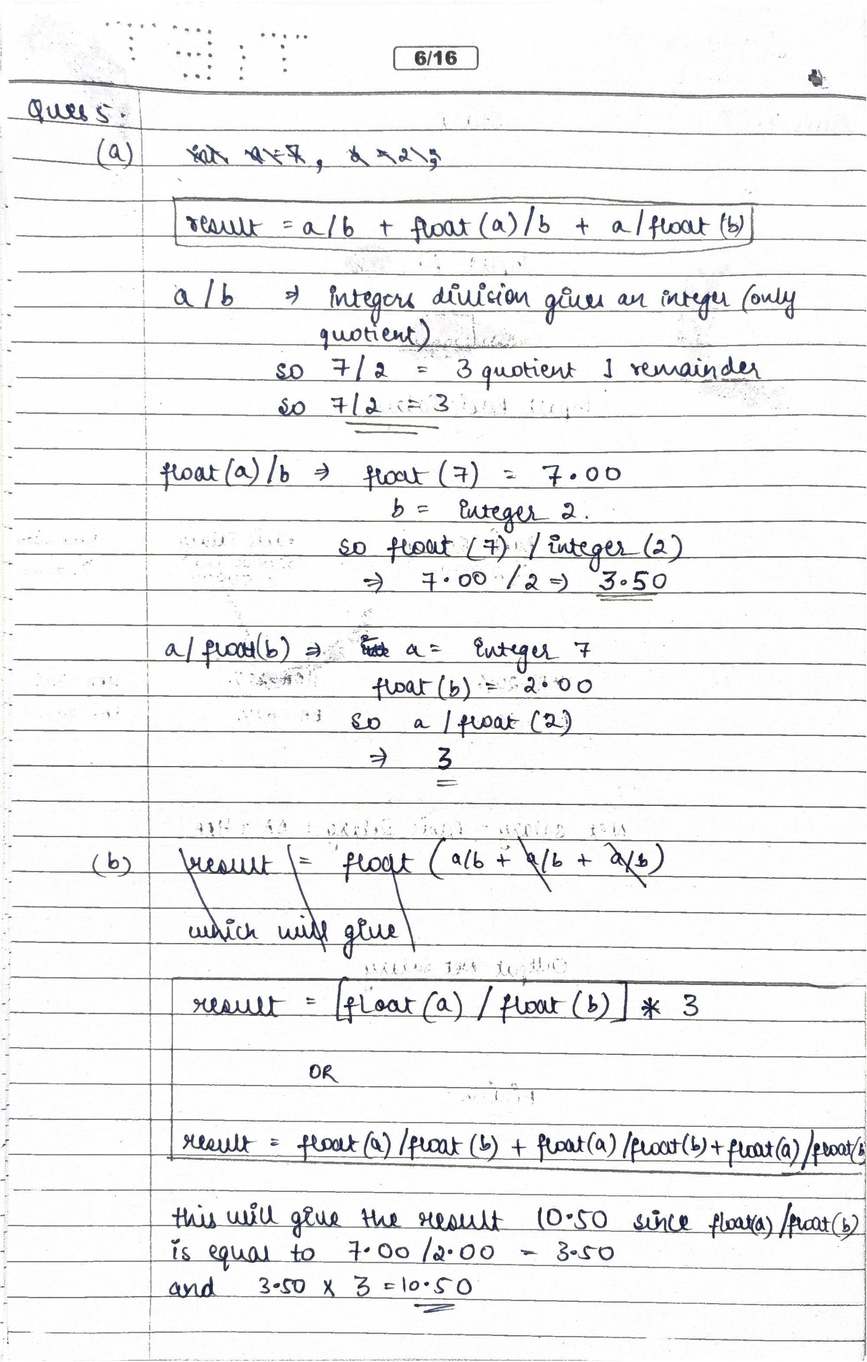cuttings: (173, 833, 671, 966), (181, 140, 445, 174), (356, 632, 392, 661)
